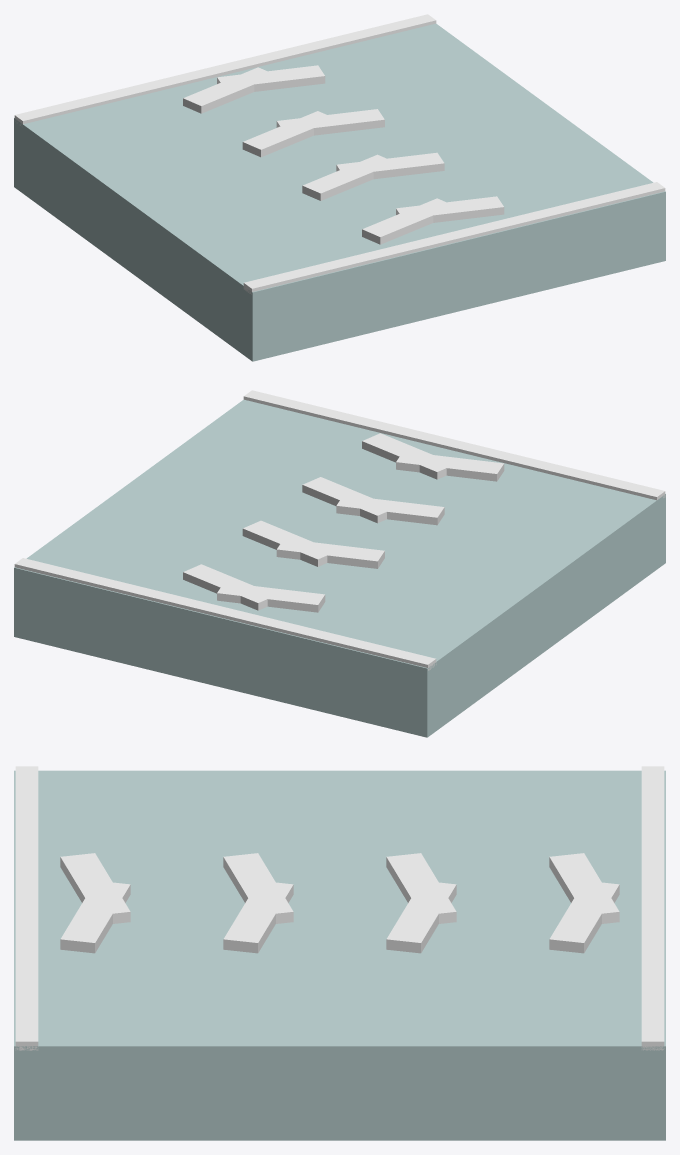
The model's file is ThinConveyor_Thin.glb.
The picture shows the model from 3 angles, top to bottom: view 1: azimuth 30°, elevation 25°; view 2: azimuth 150°, elevation 25°; view 3: azimuth 270°, elevation 25°; orthographic projection. The views are drawn at different scales.
Parts seen in each view (by area): view 1: ThinConveyor_Thin_body, rail_-0.009, rail_0.009, chev_3_1.009, chev_2_1.009, chev_0_1.009, chev_3_-1.009, chev_1_1.009, chev_1_-1.009, chev_0_-1.009, chev_2_-1.009; view 2: ThinConveyor_Thin_body, rail_0.009, rail_-0.009, chev_0_1.009, chev_1_1.009, chev_3_1.009, chev_2_-1.009, chev_3_-1.009, chev_2_1.009, chev_1_-1.009, chev_0_-1.009; view 3: ThinConveyor_Thin_body, rail_-0.009, rail_0.009, chev_1_-1.009, chev_2_-1.009, chev_0_-1.009, chev_3_-1.009, chev_0_1.009, chev_3_1.009, chev_1_1.009, chev_2_1.009.
Part boxes in pixels (x1,y1,x2,y2): ThinConveyor_Thin_body: (14,23,665,361); rail_-0.009: (243,182,665,294); rail_0.009: (14,14,436,125); chev_3_1.009: (183,67,275,113); chev_2_1.009: (242,111,335,157); chev_0_1.009: (362,198,454,244); chev_3_-1.009: (217,65,325,91); chev_1_1.009: (302,154,386,200); chev_1_-1.009: (336,152,444,179); chev_0_-1.009: (396,196,504,222); chev_2_-1.009: (276,109,384,135); ThinConveyor_Thin_body: (14,399,665,737); rail_0.009: (14,558,436,670); rail_-0.009: (243,390,665,500); chev_0_1.009: (396,451,504,481); chev_1_1.009: (336,496,444,525); chev_3_1.009: (217,582,325,612); chev_2_-1.009: (242,520,335,566); chev_3_-1.009: (183,564,275,610); chev_2_1.009: (276,542,384,568); chev_1_-1.009: (302,477,386,523); chev_0_-1.009: (362,433,446,479); ThinConveyor_Thin_body: (14,770,665,1140); rail_-0.009: (15,766,38,1050); rail_0.009: (641,766,664,1050); chev_1_-1.009: (223,881,293,953); chev_2_-1.009: (386,881,456,953); chev_0_-1.009: (60,882,130,953); chev_3_-1.009: (549,882,619,953); chev_0_1.009: (60,853,130,923); chev_3_1.009: (549,853,619,923); chev_1_1.009: (223,853,293,923); chev_2_1.009: (386,853,456,923).
Bounding box in the file's own units: 1 × 0.1775 × 1.
